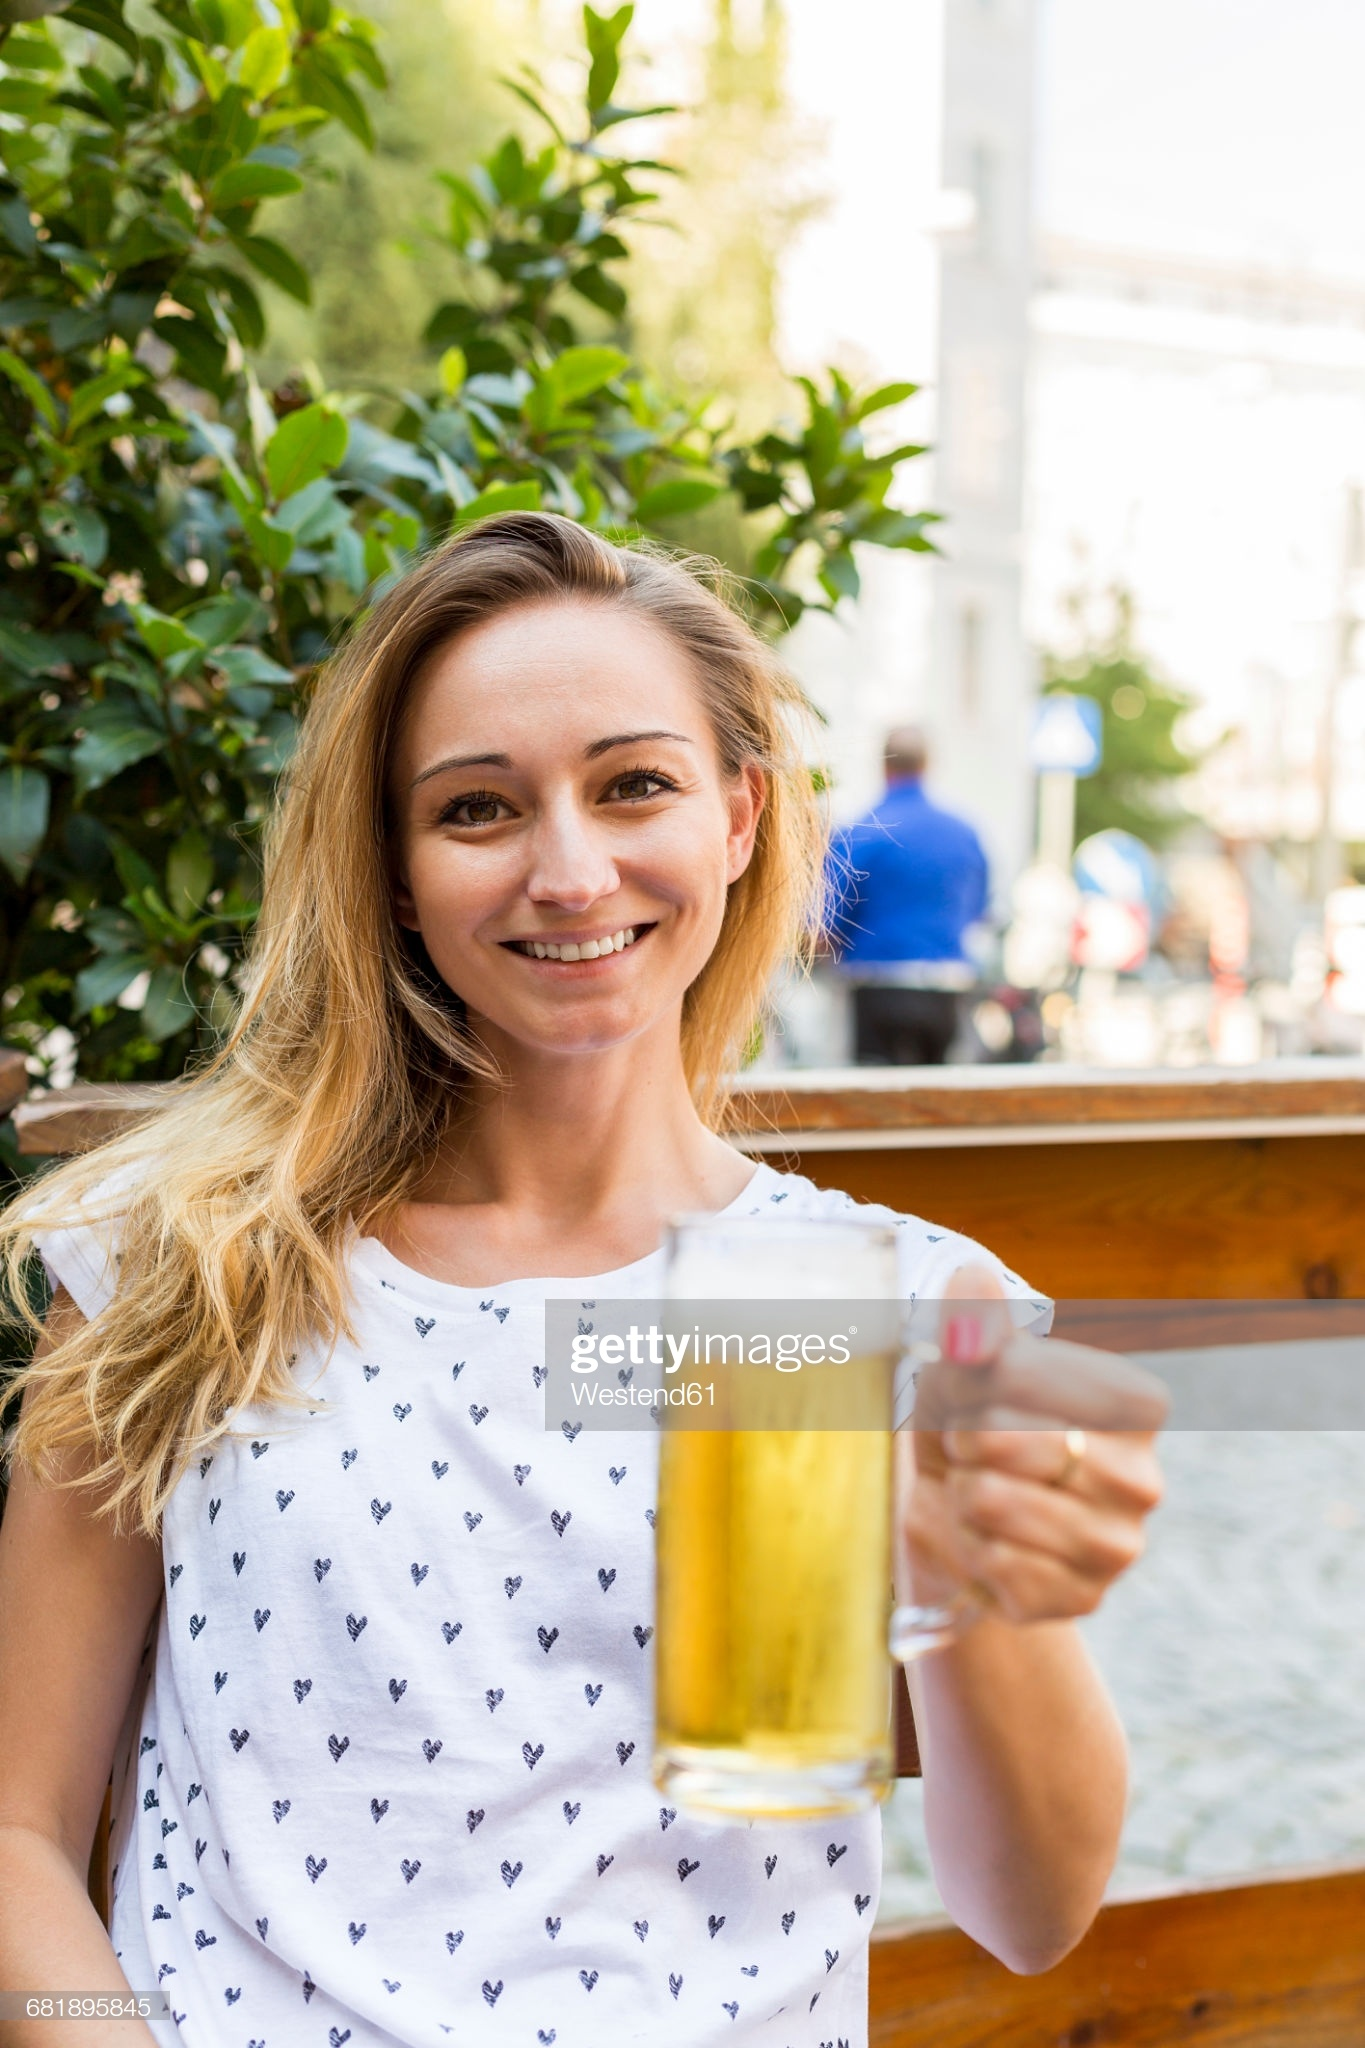glassBeer: (658, 1204, 926, 1804)
